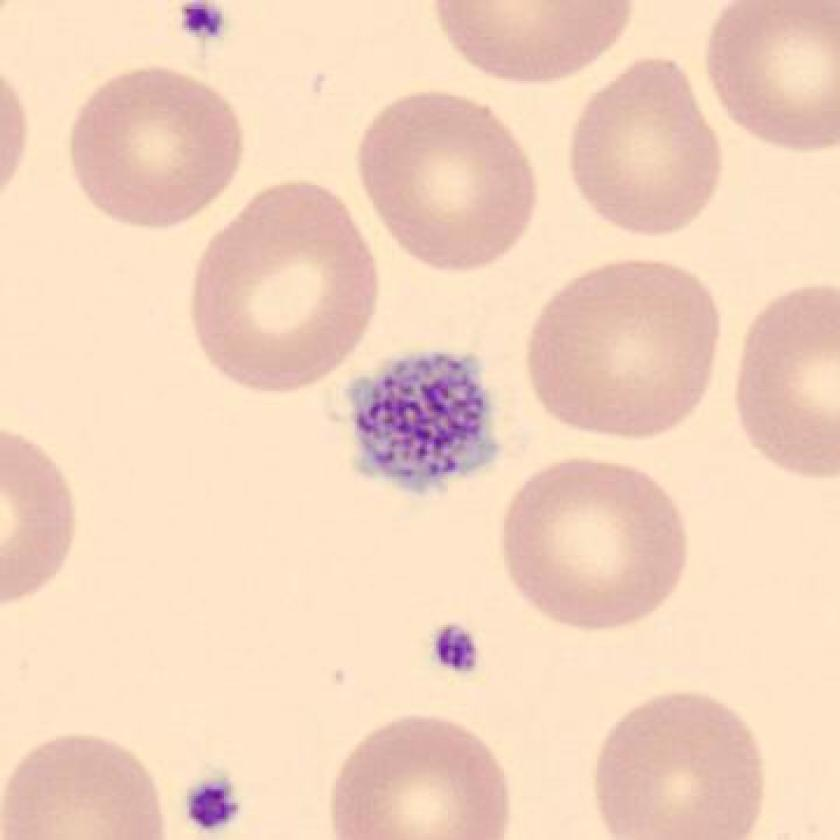platelets: (332, 337, 512, 506), (174, 760, 253, 840), (419, 612, 491, 690), (168, 1, 234, 47)
